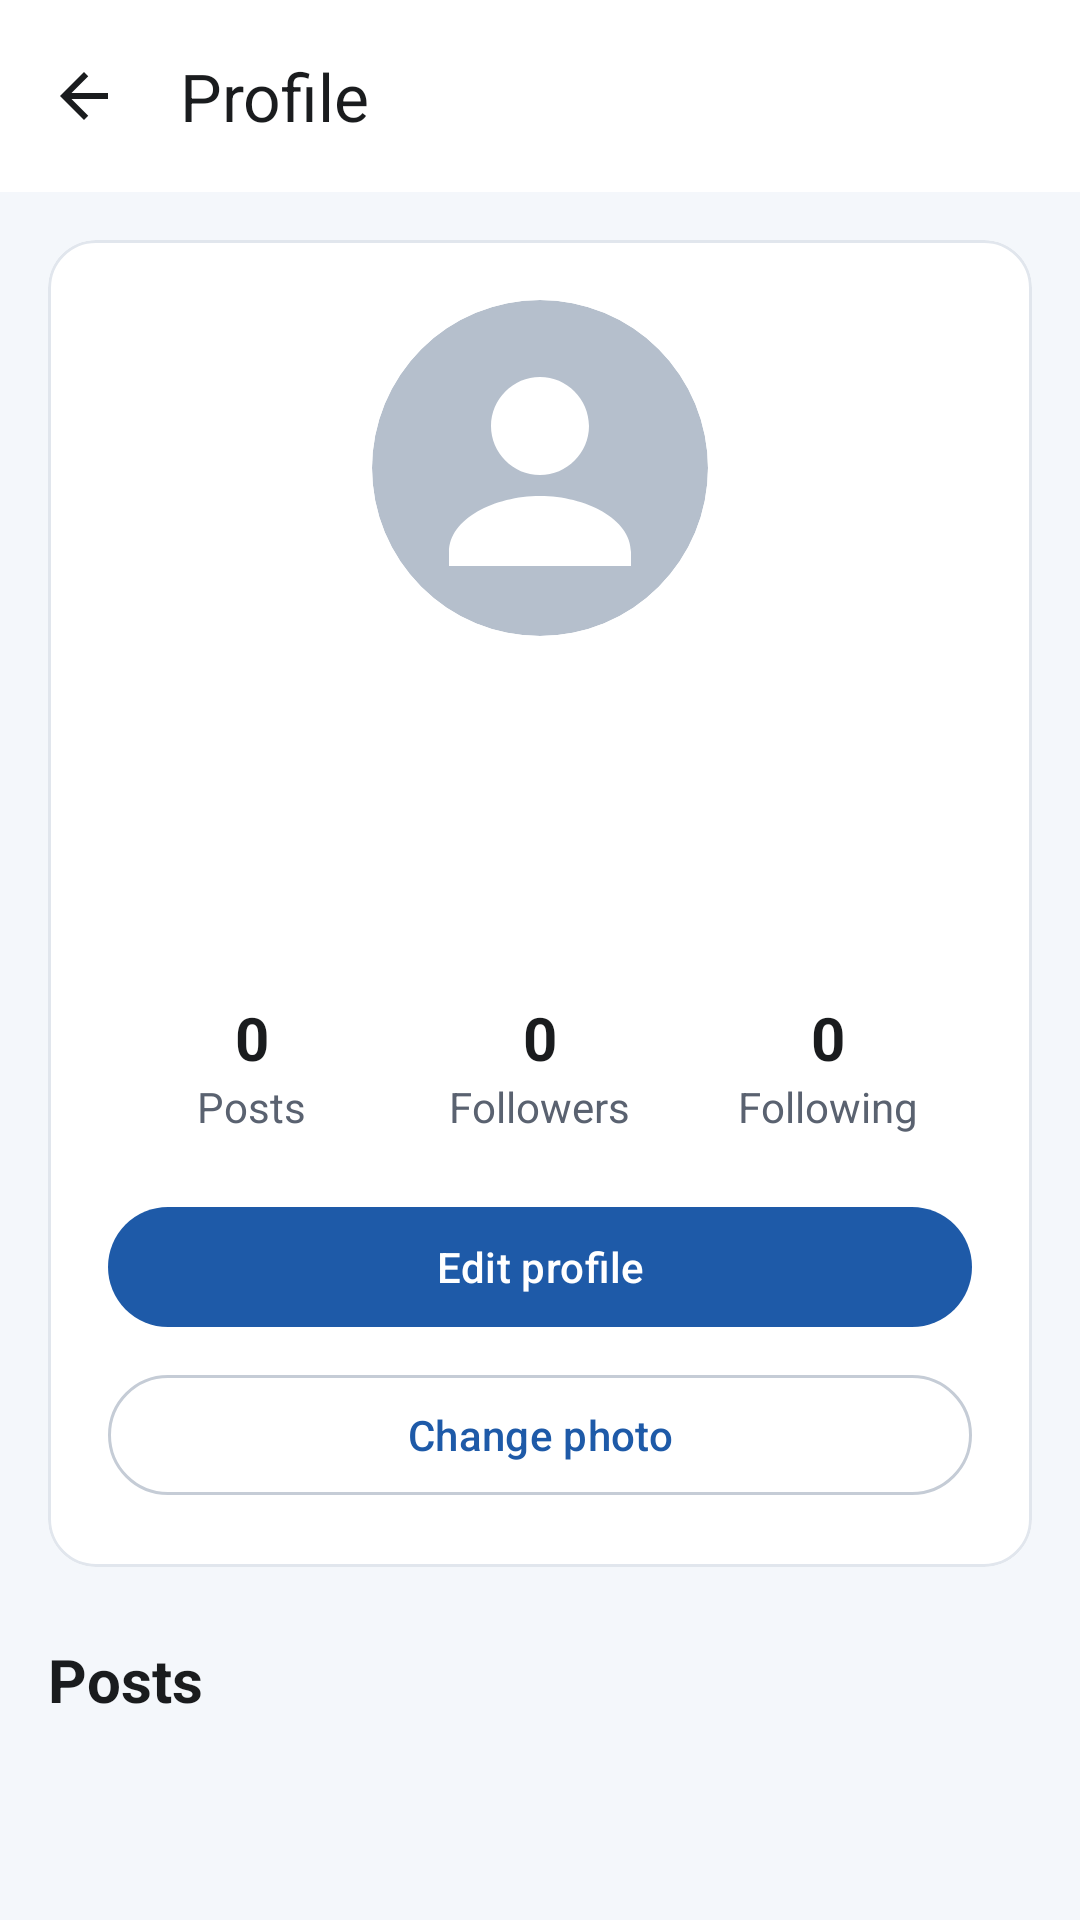

Where to tap for icons on this 1080×1920 app screen, as (x,y):
Profile photo: (540,468)
